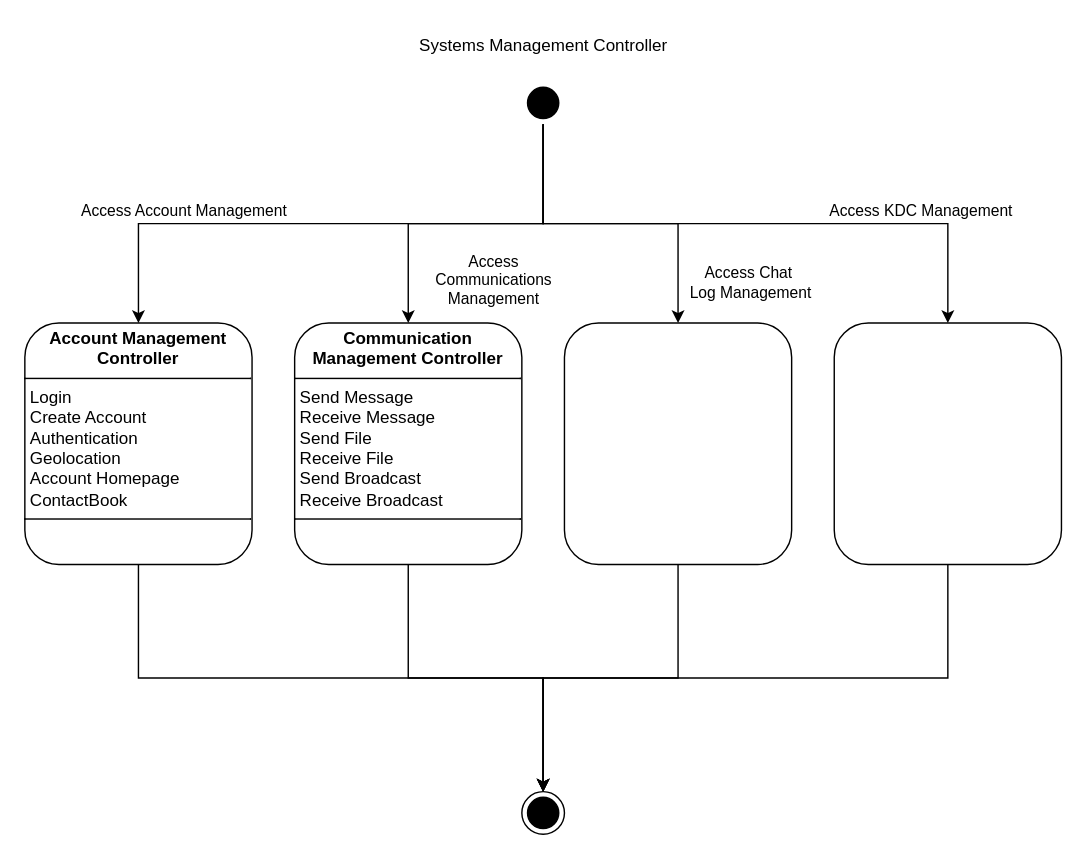
Some shapes in this 1086 by 859 pixel diagram are drawn without their labels. The shapes that lost their labels are listed below. From the top down, each one's box as (x1, y1, x2, y2) in pixels, then its label:
(563, 322, 792, 564): Chat Log Management Controller Chat Log View File View Messages Download File
(833, 322, 1061, 564): KDC Management Controller Generate Key Encrypt Decrypt Key Update Notifications
